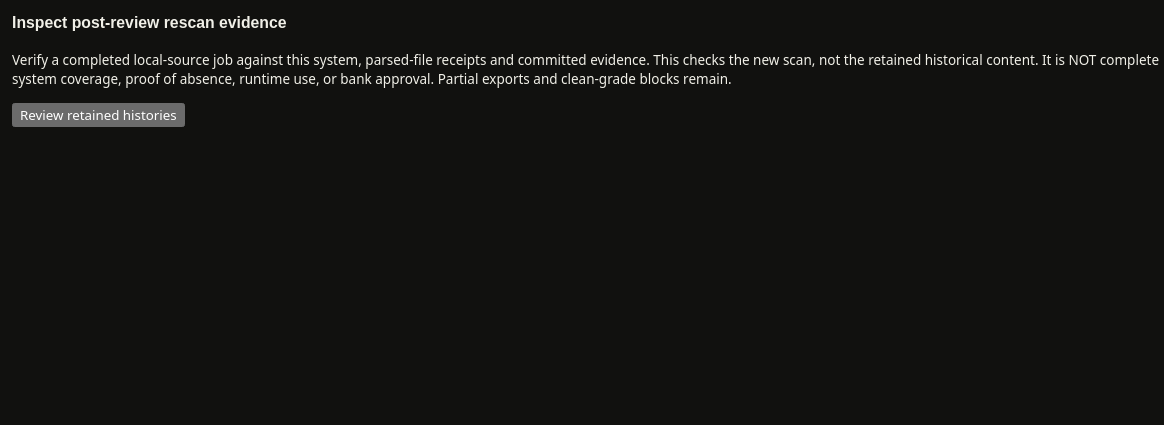
Test: Retained-source rescan inspection › does not call an empty committed scope proof of absence
Click the button "Review retained histories" at (98, 115), box [12,103,185,127]
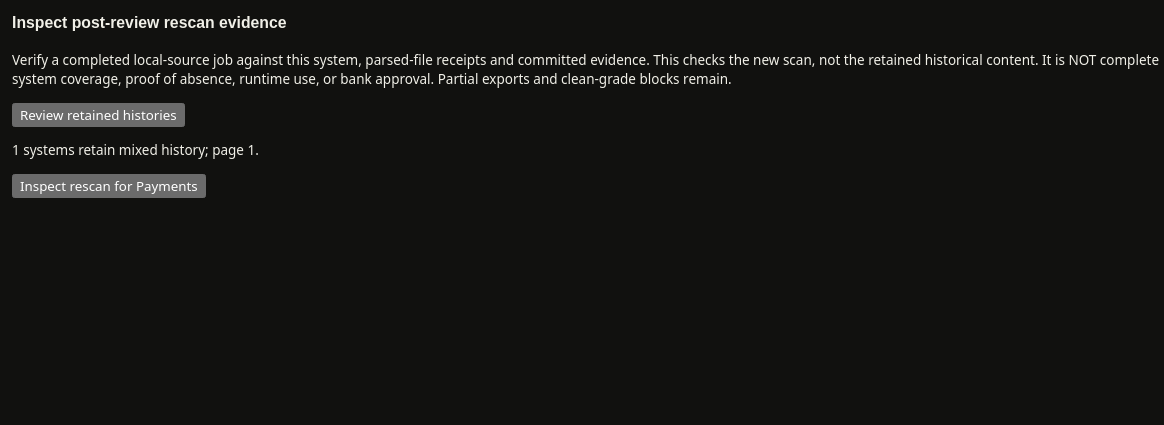
Click the button "Inspect rescan for Payments" at (109, 186), box [12,174,206,198]
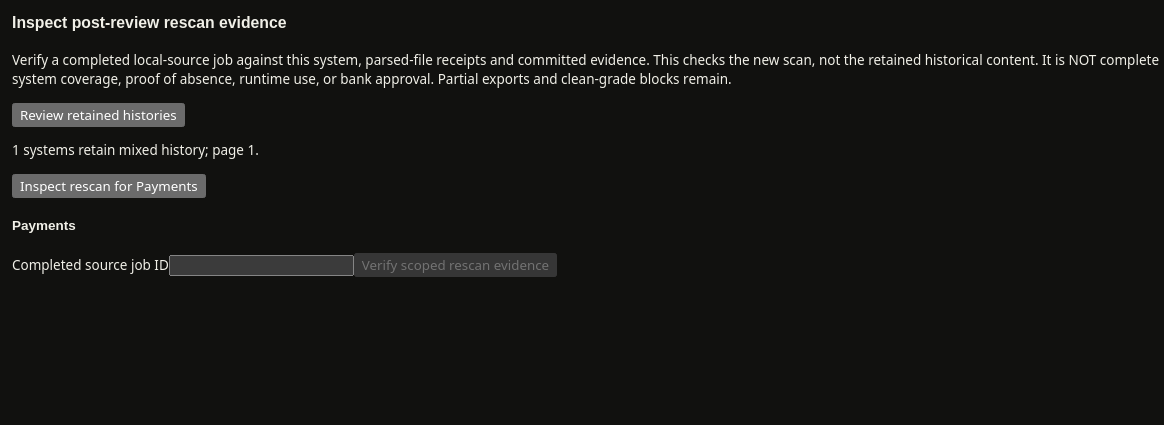
Type "job-a" into the field labelled "Completed source job ID" at (261, 266), box [169,255,354,276]
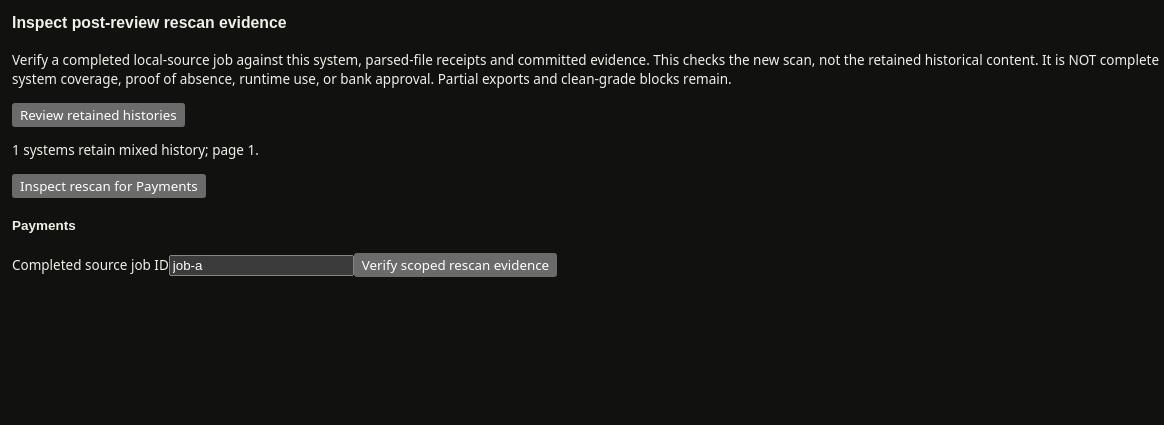
Click the button "Verify scoped rescan evidence" at (455, 265), box [354,253,557,277]
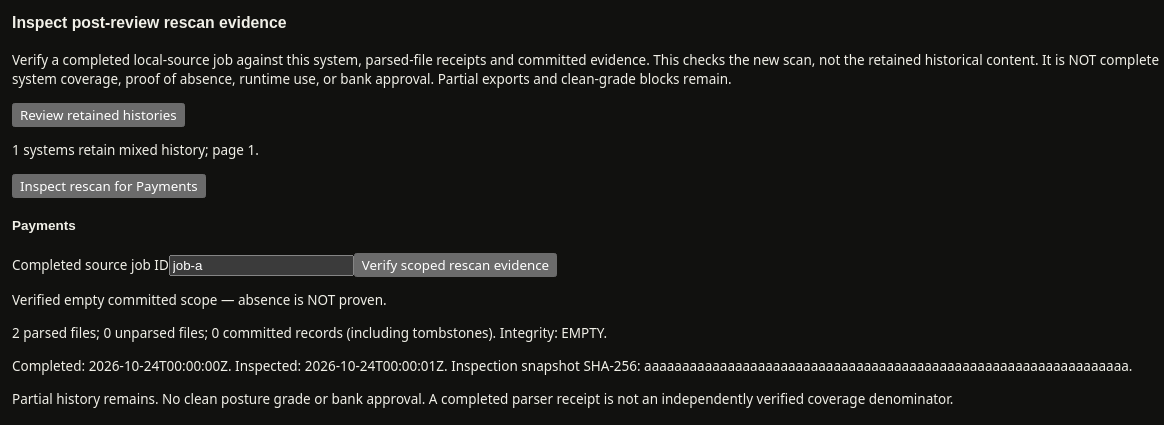
Expected: the text "Verified empty committed scope — absence is NOT proven." is shown, [12,291,387,309]
